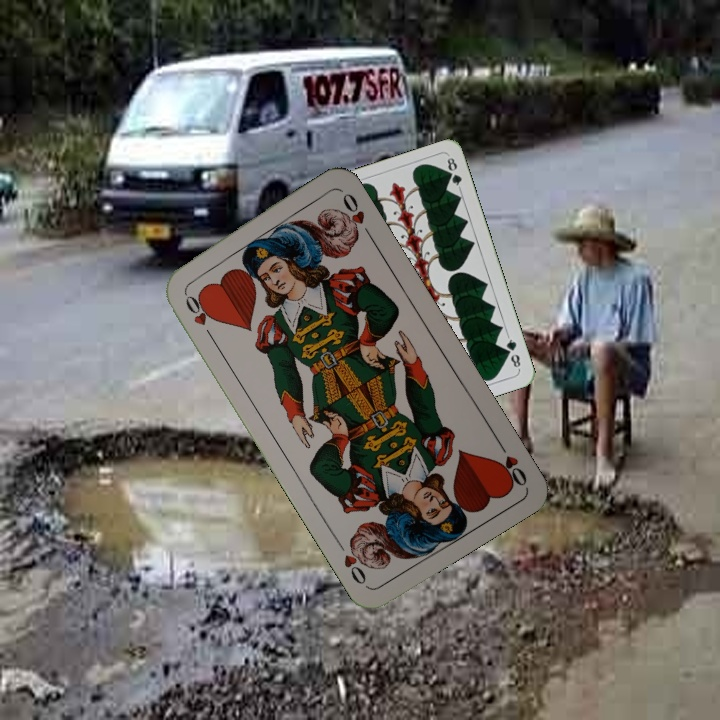G8: (502, 332, 523, 372)
HO: (179, 287, 218, 341), (492, 435, 530, 490)
